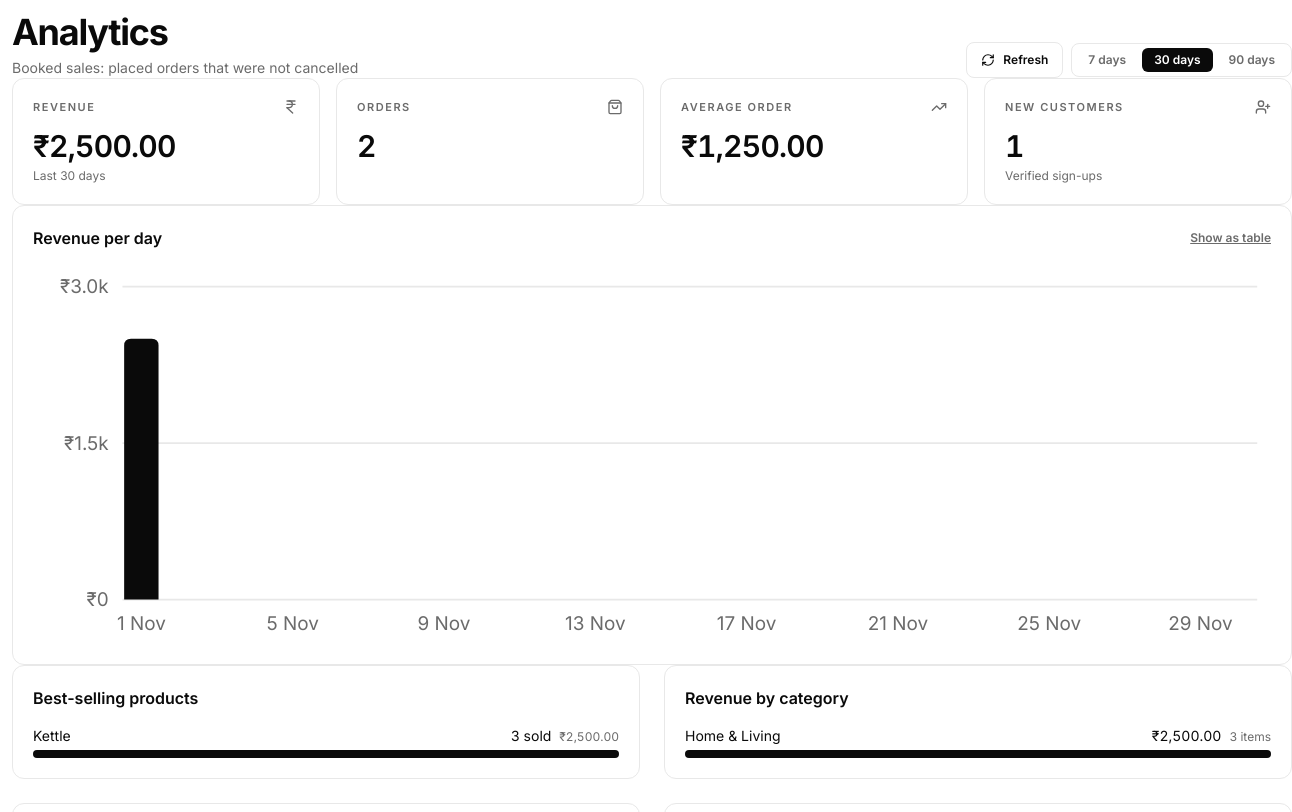
Scenario: admin analytics › shows totals, a daily chart and best sellers for the chosen range
Expected: the text "Kettle" is shown, top-left (33, 726), bottom-right (71, 746)
Expected: the picture named "Revenue per day for the last 30 days" is shown, top-left (33, 266), bottom-right (1271, 644)
Click the button "7 days" at (1107, 60), box top-left (1076, 48), bottom-right (1138, 72)
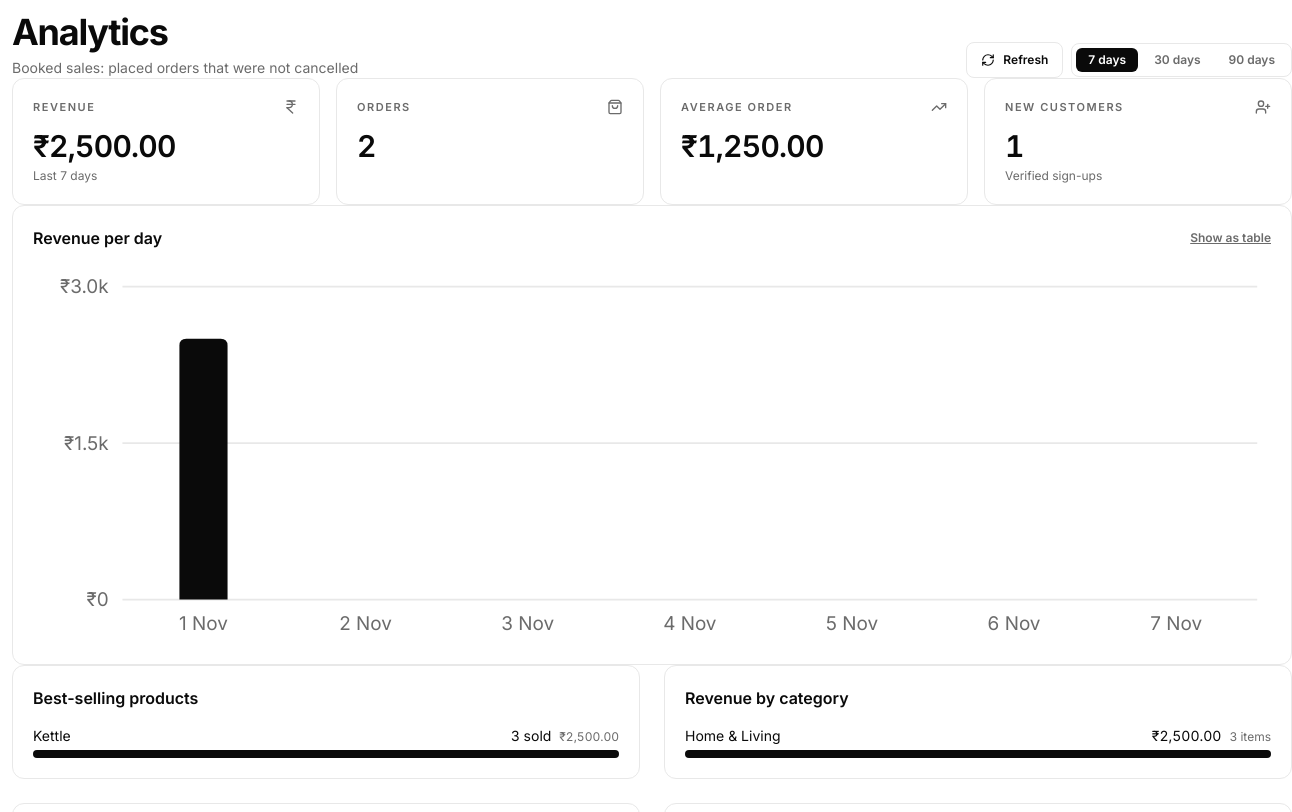
Now the picture named "last 7 days" is shown, box top-left (33, 266), bottom-right (1271, 644)
Click the button "Show as table" at (1231, 238), box top-left (1190, 230), bottom-right (1271, 246)
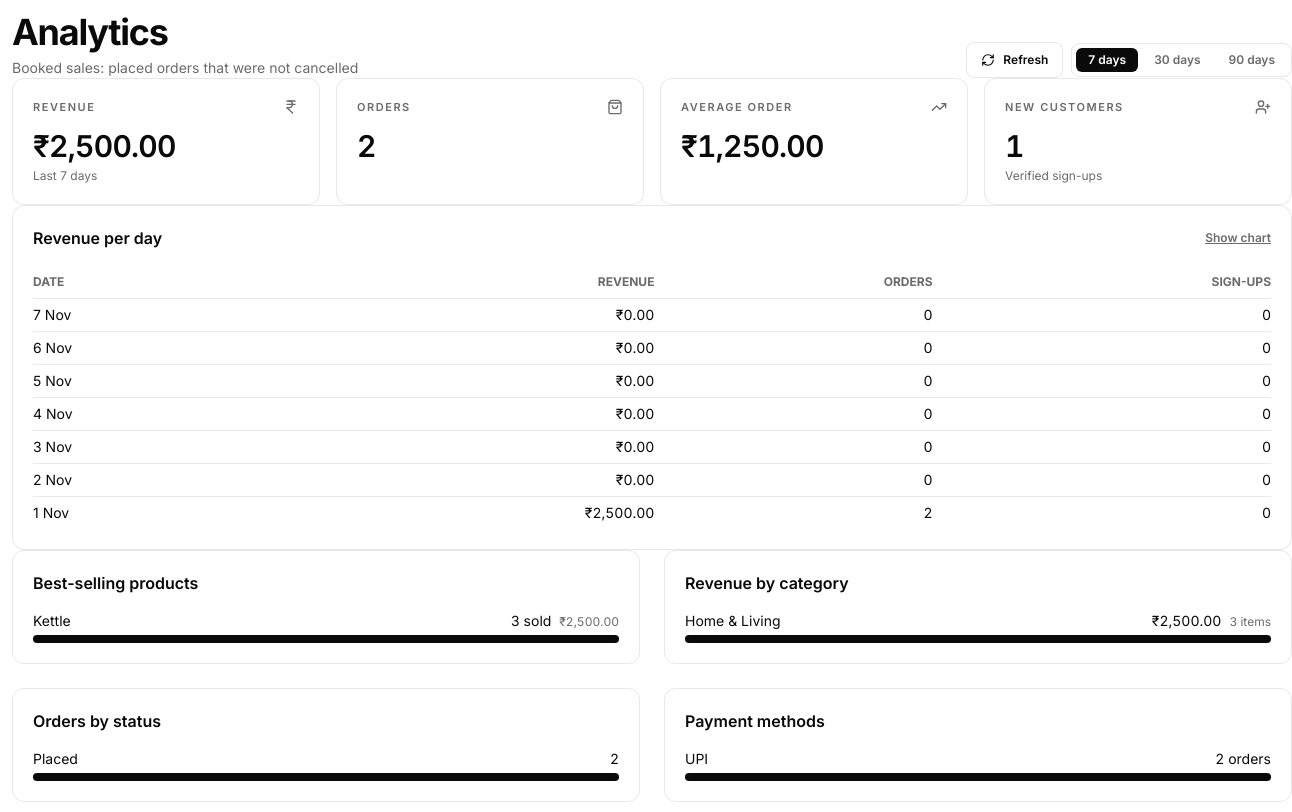
Now the number of rows is 8
